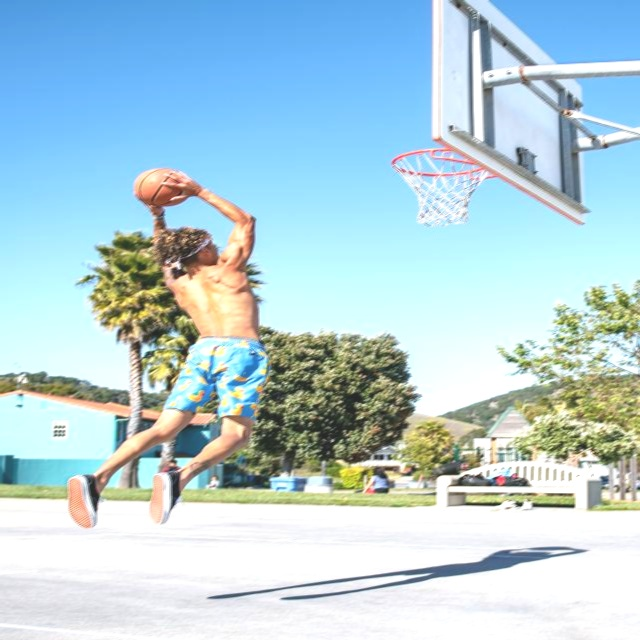Shorts: (99, 333, 272, 467)
